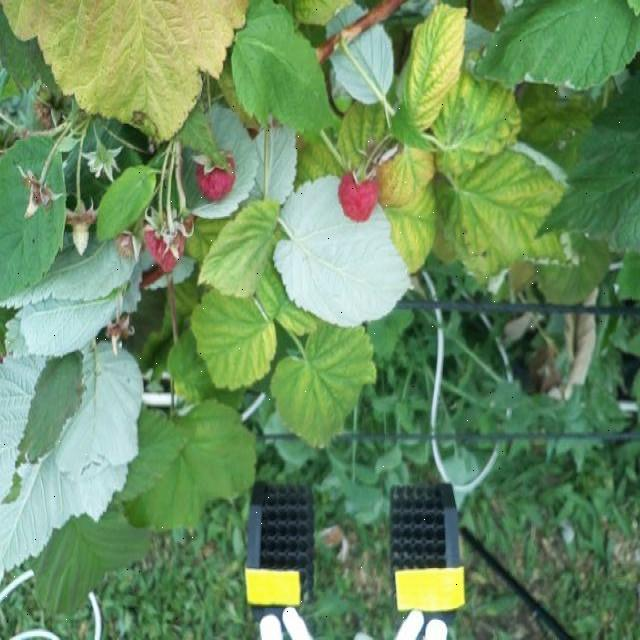Riped berries: (141, 212, 196, 274), (190, 144, 241, 197), (335, 166, 380, 222)
